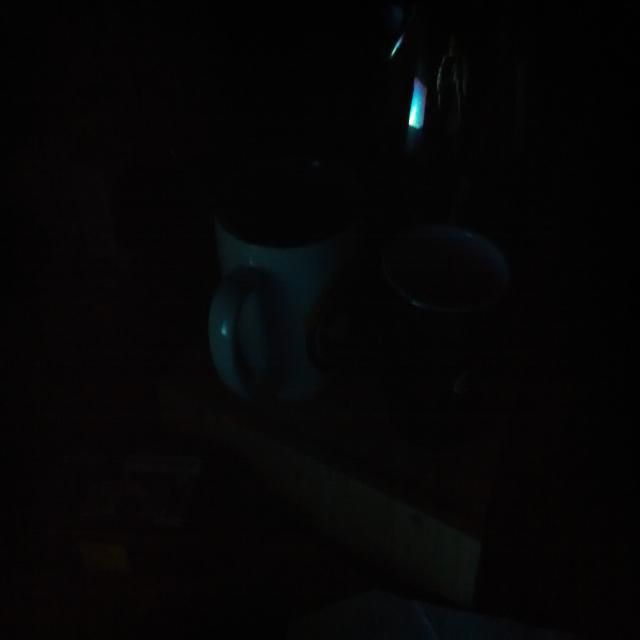Cup: (192, 163, 373, 427), (365, 228, 528, 425)
